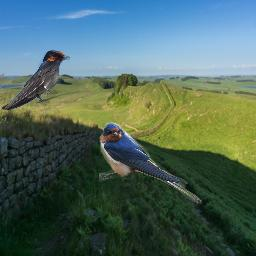Swallow: (99, 122, 202, 204), (1, 50, 70, 110)
